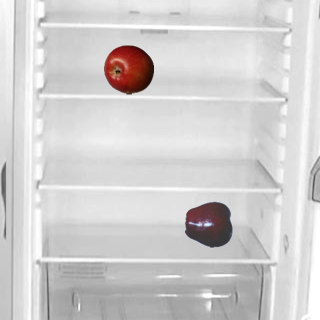Apple Braeburn: (103, 44, 153, 94)
Apple Red Delicious: (184, 199, 234, 249)
